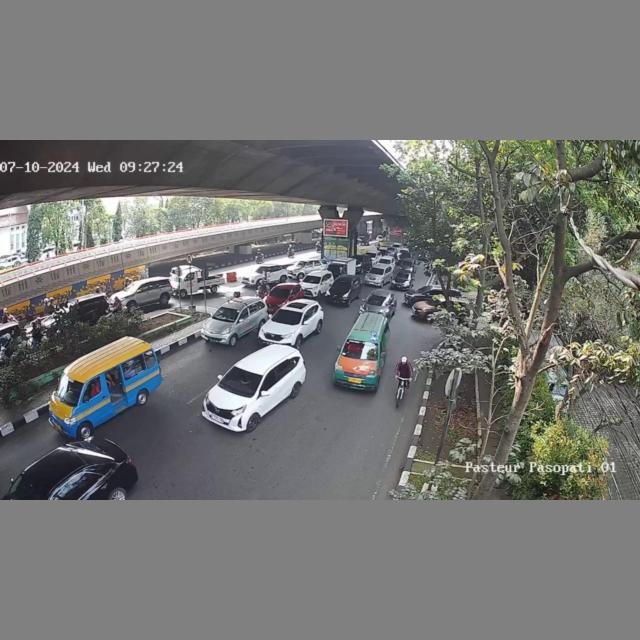windshield: (223, 365, 262, 393), (342, 339, 379, 361), (53, 374, 84, 400), (272, 308, 303, 324), (214, 305, 242, 322), (267, 287, 294, 298), (366, 297, 389, 306)
